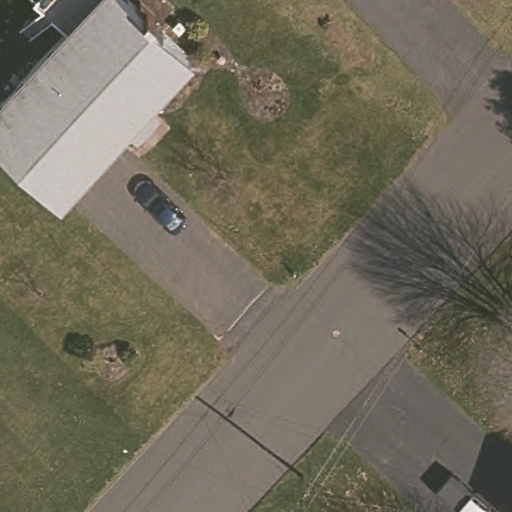DT: (291, 480, 316, 507)
